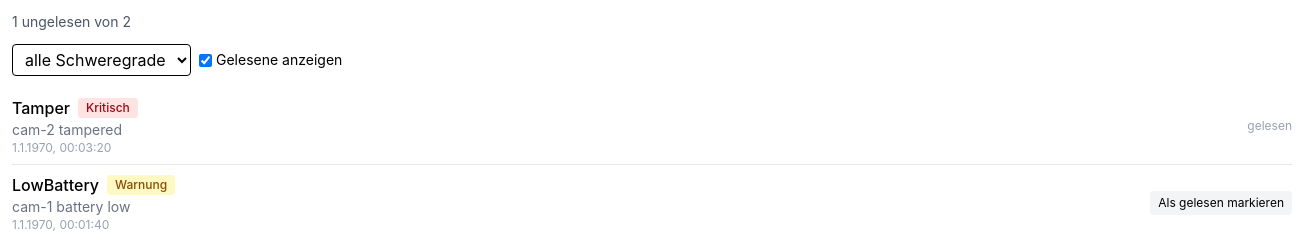
NotificationCenter › filters by severity
Select "Kritisch" in the dropdown named "Nach Schweregrad filtern" at coordinates (102, 60), box [12,44,191,76]
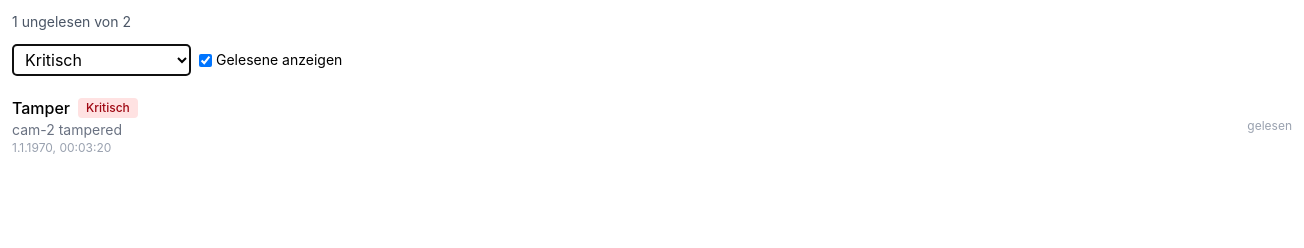
Check: the text "Tamper" is shown, box [12,98,70,118]
Check: the text "LowBattery" is gone
